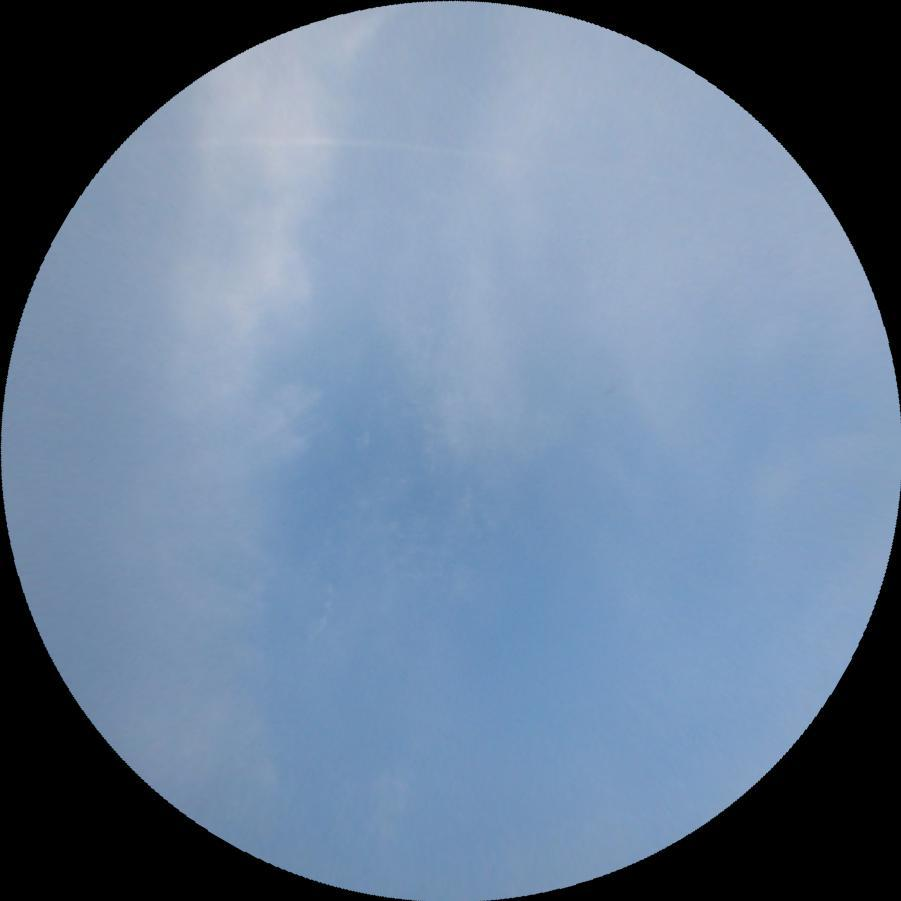contrail veryold: (176, 123, 599, 180)
